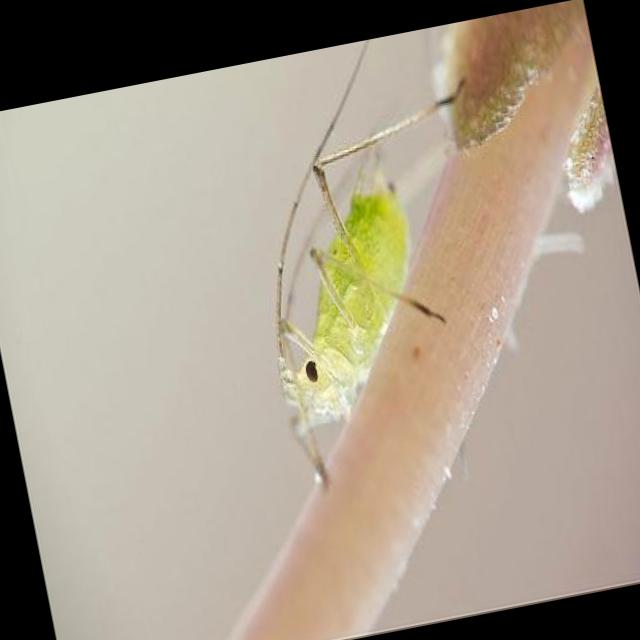Aphids: (217, 64, 508, 487)
